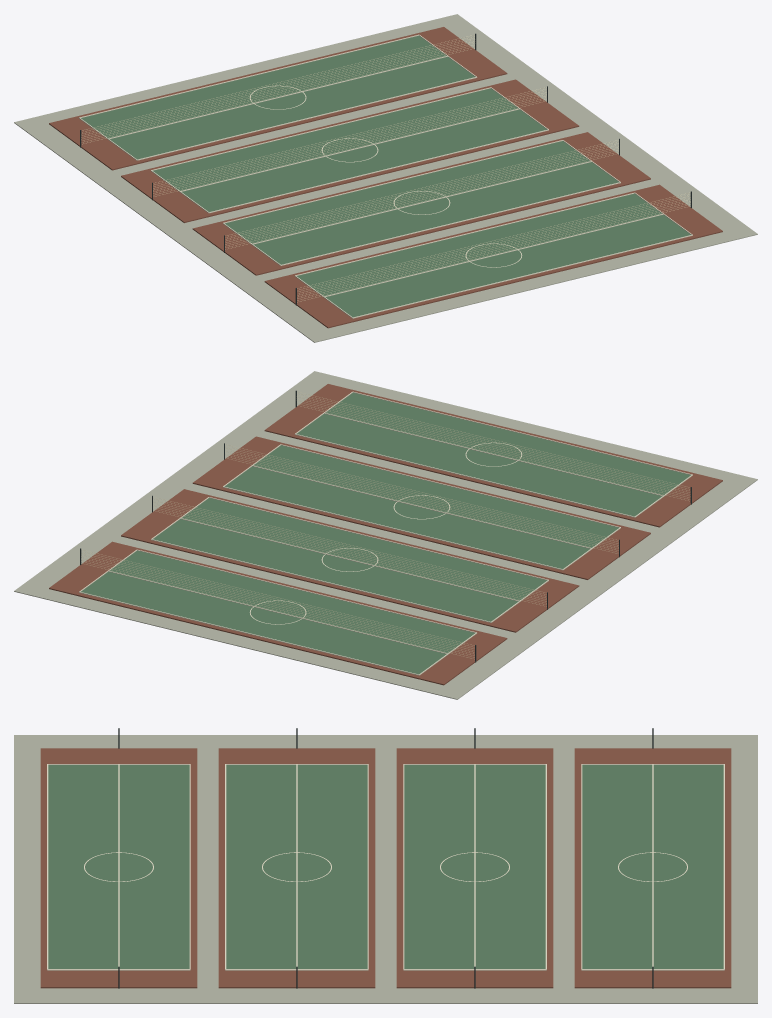
Rendered from volley_B_east_n.glb.
The picture shows the model from 3 angles, top to bottom: view 1: azimuth 30°, elevation 25°; view 2: azimuth 150°, elevation 25°; view 3: azimuth 270°, elevation 25°; orthographic projection. The views are drawn at different scales.
Parts seen in each view (by area): view 1: PavedSurround, Court_3_CourtInfield, Court_1_CourtInfield, Court_2_CourtInfield, Court_4_CourtInfield, Court_2_CourtRed, Court_3_CourtRed, Court_4_CourtRed, Court_1_CourtRed, Court_4_NetMesh, Court_2_NetMesh, Court_1_NetMesh (+5 smaller); view 2: PavedSurround, Court_2_CourtInfield, Court_1_CourtInfield, Court_3_CourtInfield, Court_4_CourtInfield, Court_3_CourtRed, Court_2_CourtRed, Court_1_CourtRed, Court_4_CourtRed, Court_1_NetMesh, Court_3_NetMesh, Court_4_NetMesh (+5 smaller); view 3: PavedSurround, Court_1_CourtInfield, Court_2_CourtInfield, Court_3_CourtInfield, Court_4_CourtInfield, Court_1_CourtRed, Court_2_CourtRed, Court_3_CourtRed, Court_4_CourtRed, Court_1_CourtLines, Court_2_CourtLines, Court_3_CourtLines (+1 smaller).
Part boxes in pixels (bbox=[...]): PavedSurround: bbox=[14, 14, 757, 342]; Court_3_CourtInfield: bbox=[225, 141, 618, 264]; Court_1_CourtInfield: bbox=[81, 35, 474, 159]; Court_2_CourtInfield: bbox=[153, 88, 546, 211]; Court_4_CourtInfield: bbox=[296, 193, 690, 317]; Court_2_CourtRed: bbox=[121, 79, 579, 222]; Court_3_CourtRed: bbox=[192, 132, 650, 275]; Court_4_CourtRed: bbox=[264, 184, 722, 328]; Court_1_CourtRed: bbox=[49, 27, 507, 170]; Court_4_NetMesh: bbox=[297, 192, 690, 302]; Court_2_NetMesh: bbox=[153, 87, 546, 196]; Court_1_NetMesh: bbox=[81, 34, 474, 144]; PavedSurround: bbox=[14, 371, 757, 699]; Court_2_CourtInfield: bbox=[153, 498, 546, 621]; Court_1_CourtInfield: bbox=[81, 550, 475, 674]; Court_3_CourtInfield: bbox=[225, 445, 618, 568]; Court_4_CourtInfield: bbox=[297, 392, 690, 516]; Court_3_CourtRed: bbox=[192, 436, 650, 579]; Court_2_CourtRed: bbox=[121, 489, 579, 632]; Court_1_CourtRed: bbox=[49, 541, 507, 685]; Court_4_CourtRed: bbox=[264, 384, 722, 527]; Court_1_NetMesh: bbox=[81, 549, 474, 659]; Court_3_NetMesh: bbox=[225, 444, 618, 553]; Court_4_NetMesh: bbox=[297, 391, 690, 501]; PavedSurround: bbox=[14, 735, 757, 1003]; Court_1_CourtInfield: bbox=[582, 765, 723, 968]; Court_2_CourtInfield: bbox=[404, 765, 545, 968]; Court_3_CourtInfield: bbox=[226, 765, 367, 968]; Court_4_CourtInfield: bbox=[48, 765, 189, 968]; Court_1_CourtRed: bbox=[574, 748, 731, 988]; Court_2_CourtRed: bbox=[396, 748, 553, 988]; Court_3_CourtRed: bbox=[218, 748, 375, 988]; Court_4_CourtRed: bbox=[40, 748, 197, 988]; Court_1_CourtLines: bbox=[581, 764, 724, 970]; Court_2_CourtLines: bbox=[403, 764, 546, 970]; Court_3_CourtLines: bbox=[225, 764, 368, 970].
Size of the model in its own units: 59.53 by 2.3 by 69.88.
